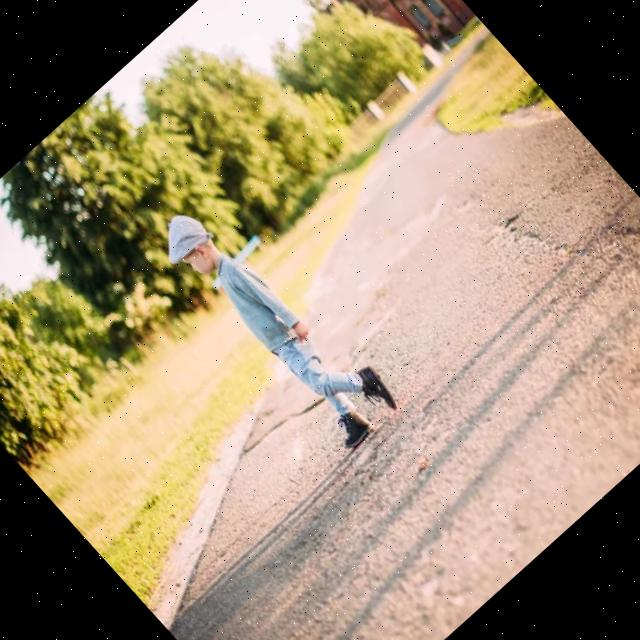Person: (147, 184, 404, 456)
